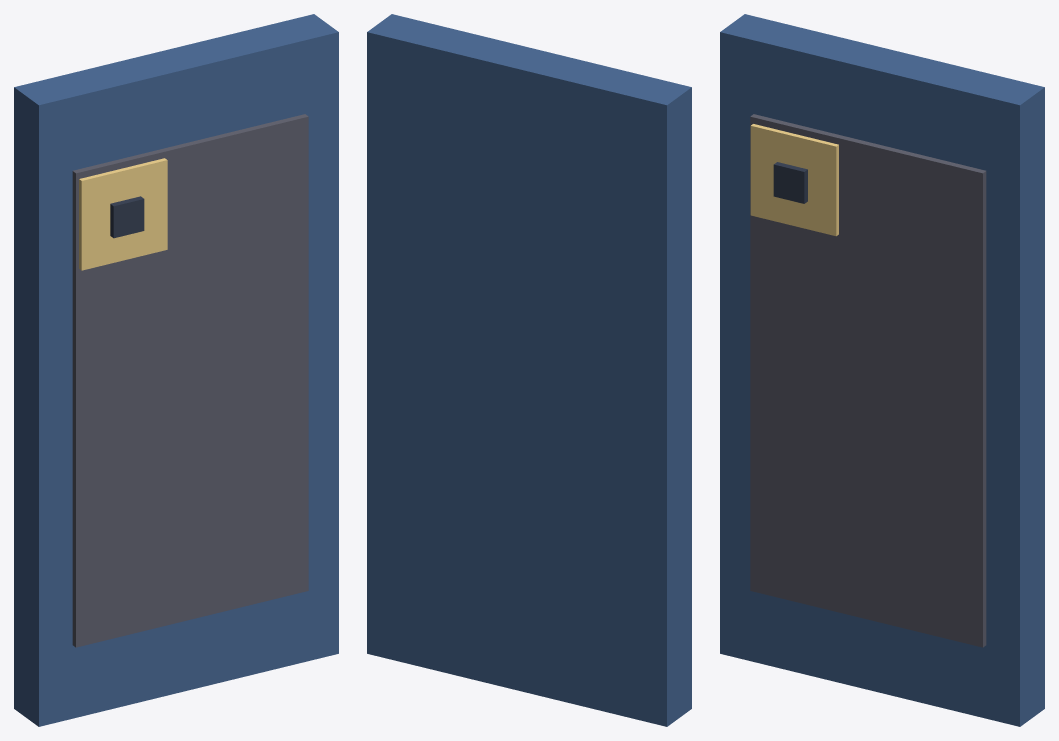
The model's file is phone.glb.
3 views of the same model, side by side, from view 1: azimuth 30°, elevation 25°; view 2: azimuth 150°, elevation 25°; view 3: azimuth 330°, elevation 25° (orthographic).
Parts seen in each view (by area): view 1: phone-screen, phone-body, phone-camera-bump, phone-lens; view 2: phone-body; view 3: phone-screen, phone-body, phone-camera-bump, phone-lens.
Part boxes in pixels (x1,y1,x2,y2): phone-screen: [72, 114, 308, 647]; phone-body: [14, 14, 338, 726]; phone-camera-bump: [79, 158, 167, 270]; phone-lens: [110, 196, 144, 238]; phone-body: [367, 14, 691, 726]; phone-screen: [750, 114, 986, 647]; phone-body: [720, 14, 1044, 726]; phone-camera-bump: [750, 124, 838, 236]; phone-lens: [773, 162, 807, 203].
Size of the model in its own units: 0.98 by 1.94 by 0.2.
